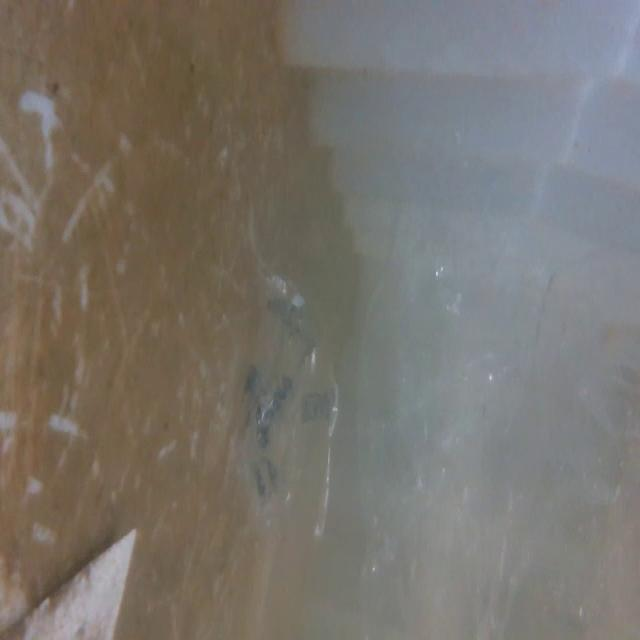metal: (0, 525, 151, 639)
plastic bags: (365, 177, 586, 640), (236, 285, 344, 554)
